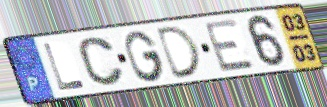6: (246, 12, 289, 70)
C: (76, 36, 127, 88)
D: (154, 23, 204, 81)
E: (202, 17, 259, 75)
G: (123, 29, 168, 84)
L: (40, 41, 88, 93)
